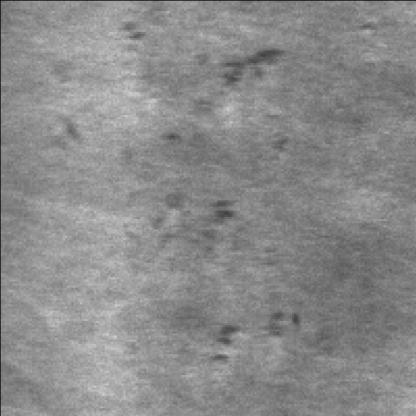rolled-in_scale: (121, 40, 281, 246), (196, 310, 300, 372)
